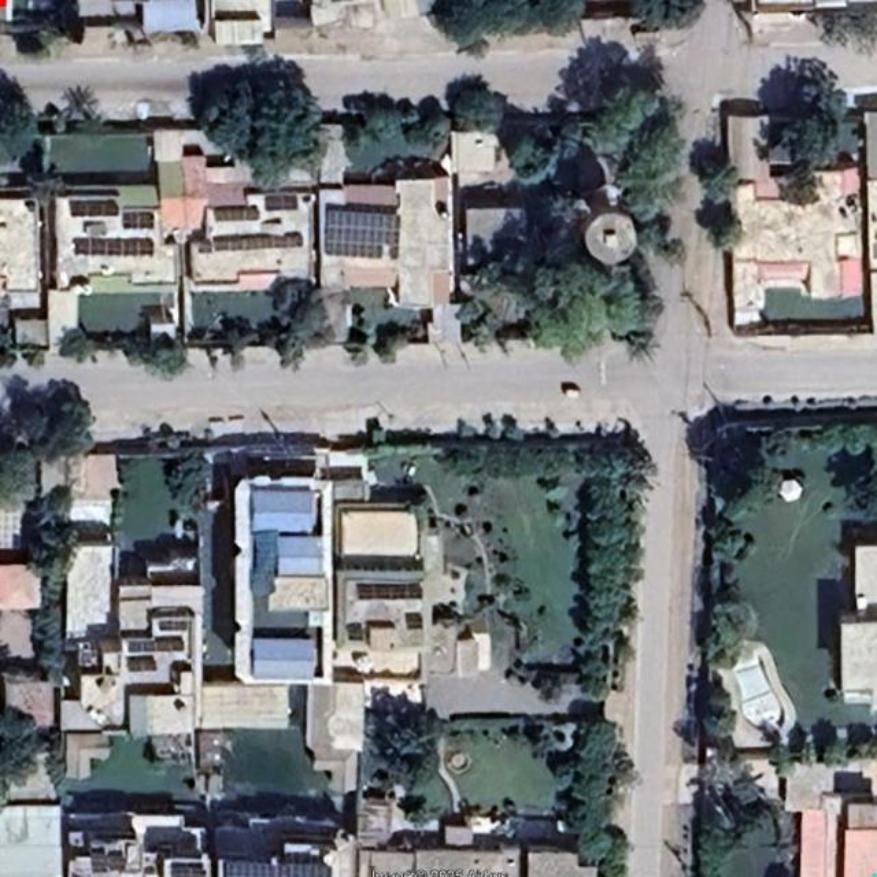Solarpanel: (325, 209, 399, 258), (224, 859, 331, 876), (77, 236, 152, 257), (213, 236, 300, 248), (69, 199, 120, 214), (216, 205, 256, 219), (121, 213, 154, 225)
